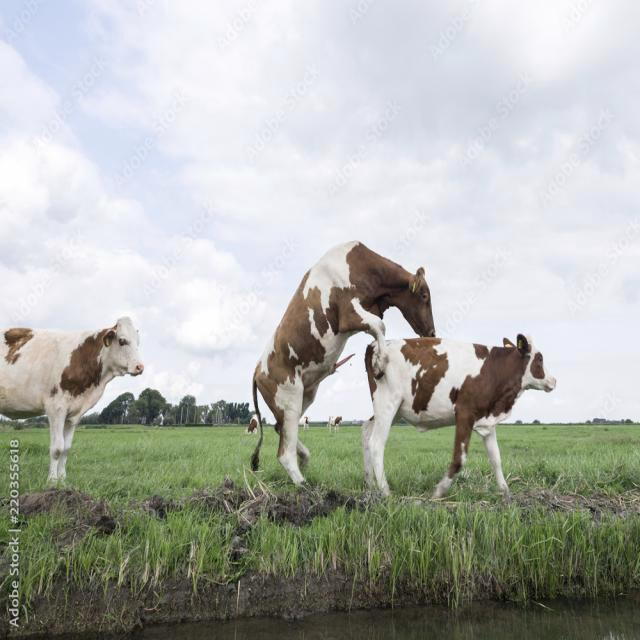cow: (252, 241, 435, 484), (364, 334, 555, 499), (0, 318, 142, 483)
